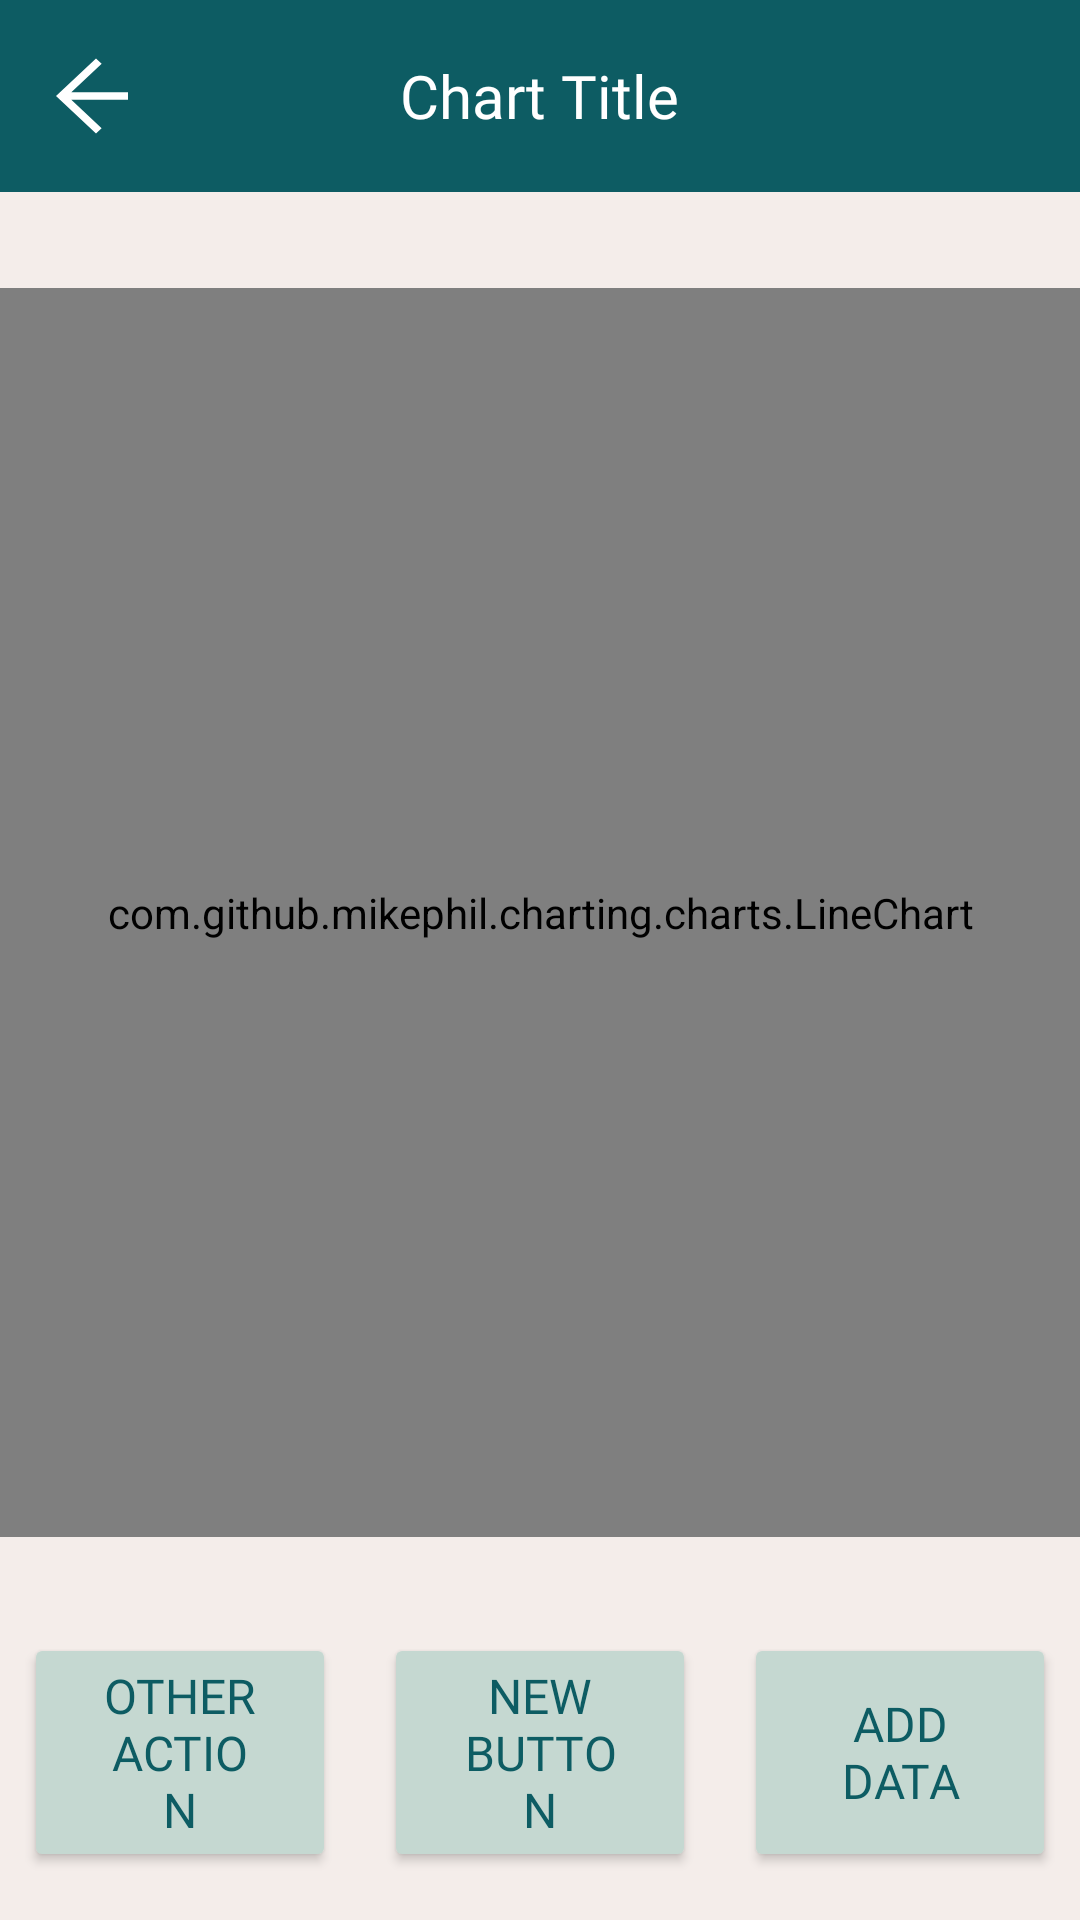

Icons on this 1080px x 1920px Android screen, each with its box as (x1, y1, x2, y2):
Back: (56, 58, 128, 134)
